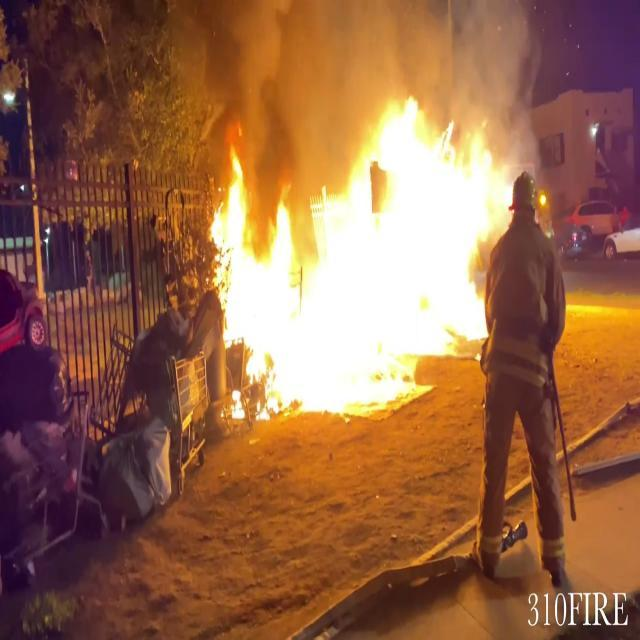Fire: (202, 81, 514, 419)
Smoke: (187, 0, 550, 136)
